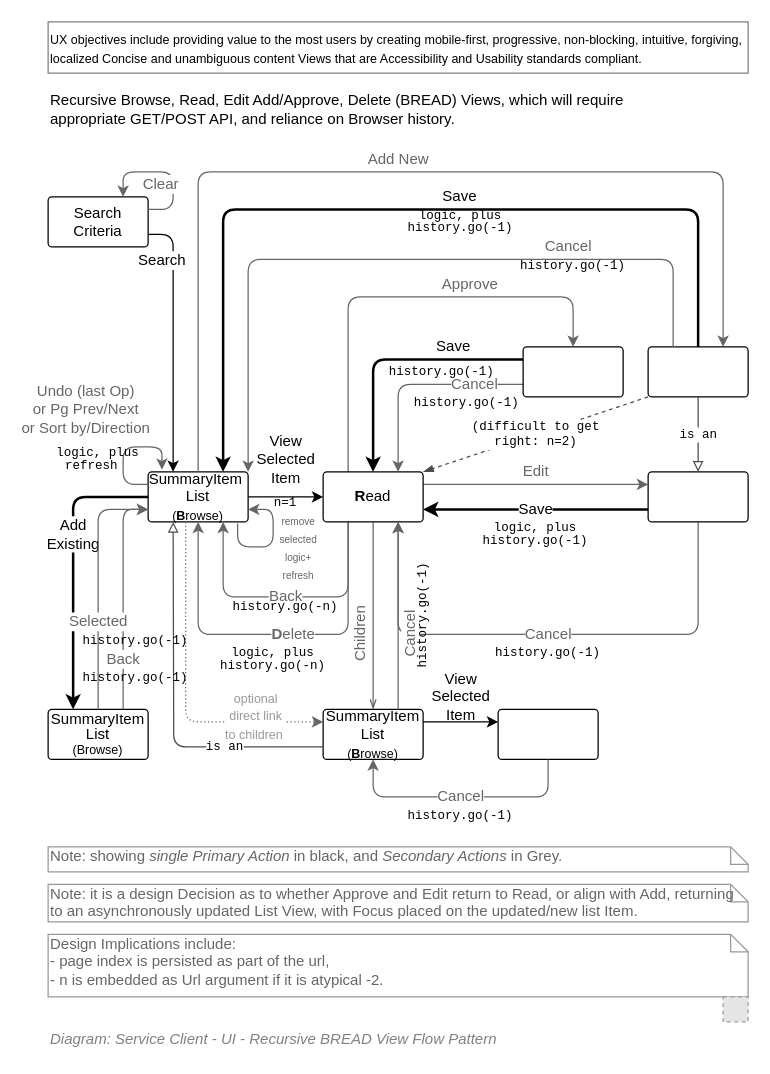
This 770x1074 diagram has some shape labels left out. Grey dashed boxes stand in for pictures. The shapes that lost their labels are listed below. From the top down, each one's box as (x1, y1, x2, y2) in pixels, then its label:
(522, 346, 623, 397): A pprove
(647, 346, 748, 397): A dd (generate UUID clientside)
(647, 471, 748, 522): E dit
(497, 708, 598, 759): etc (recursive repeat of BREAD Views)
